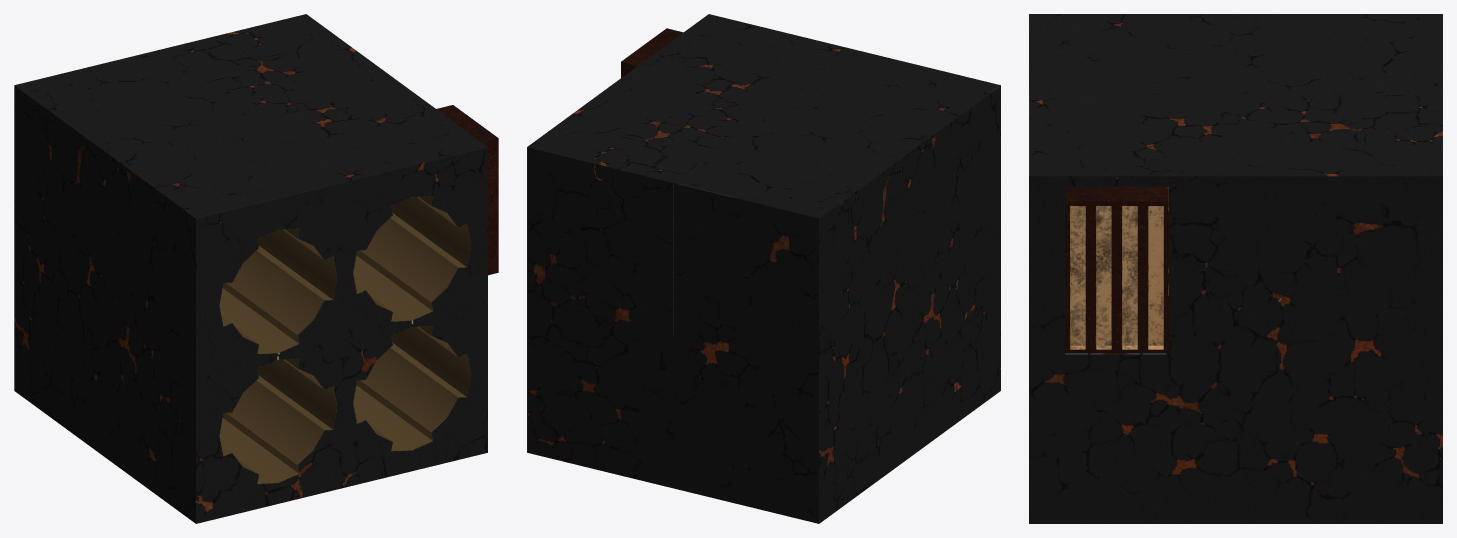
Rendered from BatteryContainer.fbx.
The picture shows the model from 3 angles, left to right: view 1: azimuth 30°, elevation 25°; view 2: azimuth 150°, elevation 25°; view 3: azimuth 270°, elevation 25°; orthographic projection. The views are drawn at different scales.
Visible parts, largest first — view 1: DP_BatteryContainer; view 2: DP_BatteryContainer; view 3: DP_BatteryContainer.
Boxes of the visible parts, x1,y1,x2,y2 form: DP_BatteryContainer: (14,14,498,523); DP_BatteryContainer: (527,14,1000,523); DP_BatteryContainer: (1029,14,1442,523).
Bounding box in the file's own units: 19.76 × 18.13 × 19.55.
1 material, 1 textured.
